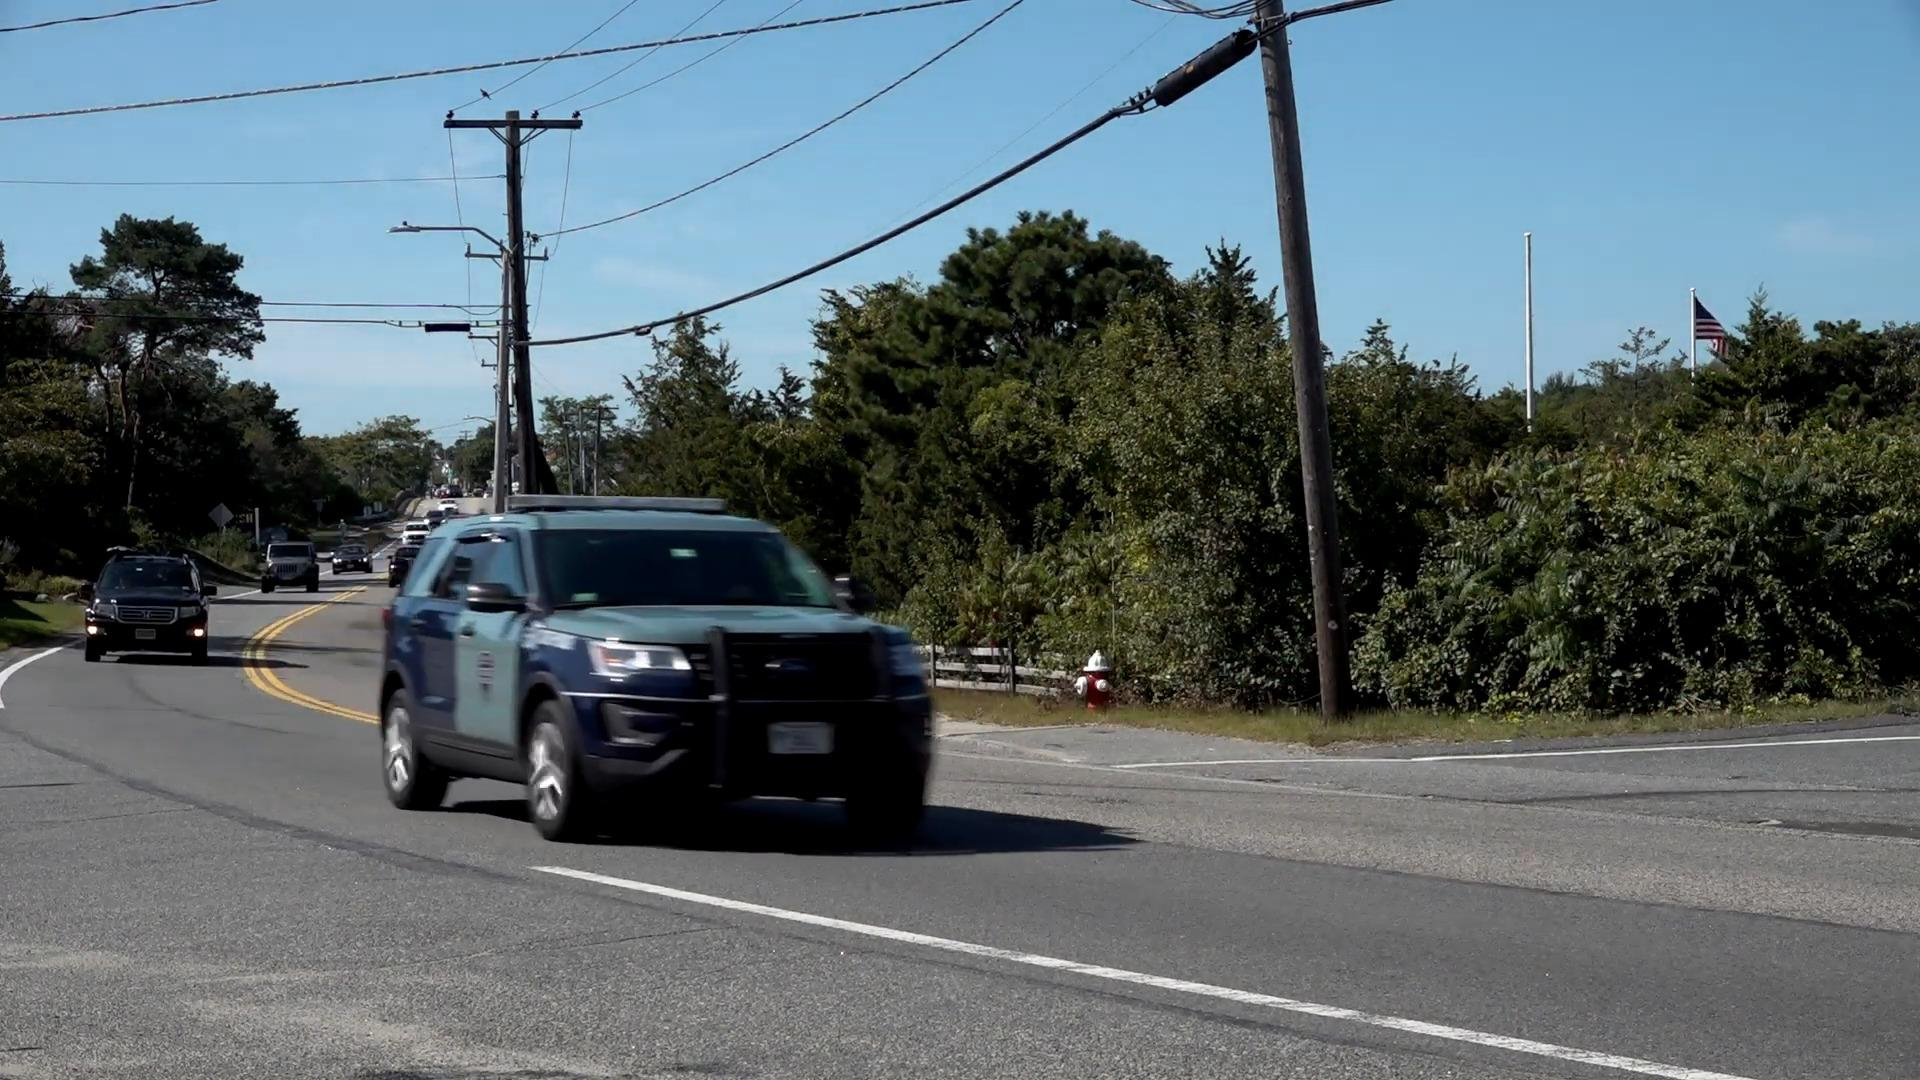suv: (382, 506, 931, 845), (87, 551, 206, 669)
